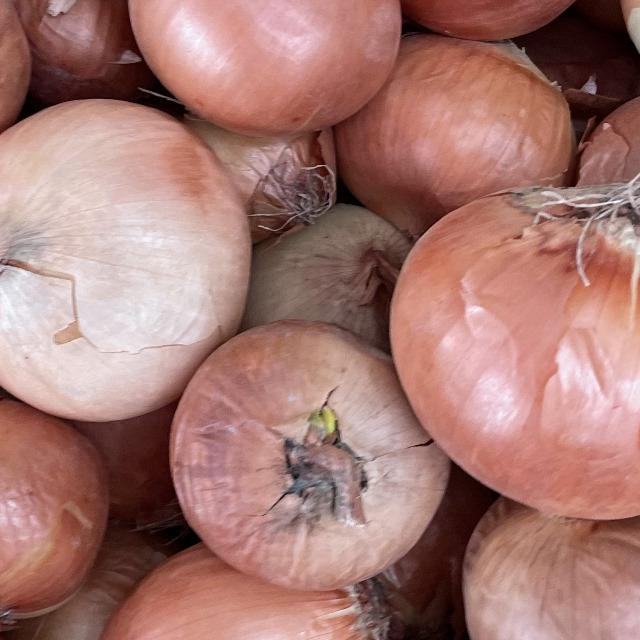onion: (372, 145, 640, 540), (0, 90, 285, 437), (152, 310, 455, 578), (110, 0, 440, 130), (0, 385, 120, 640)
